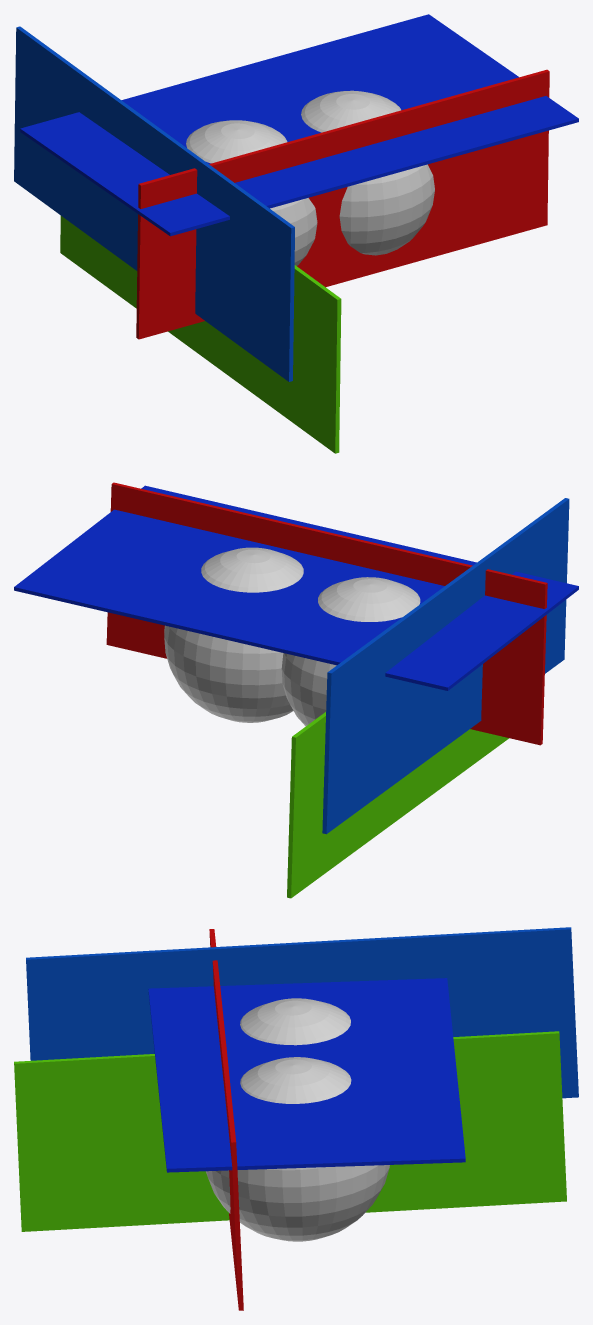
File: Ebenen als Szenenbegrenzung mit Kugel.obj
3 renders of one model, top to bottom at view 1: azimuth 30°, elevation 25°; view 2: azimuth 150°, elevation 25°; view 3: azimuth 270°, elevation 25°, orthographic. The views are drawn at different scales.
Parts seen in each view (by area): view 1: Cube.003, Cube, Cube.002, Cube.001, Kugel.001, Kugel; view 2: Cube.003, Cube.002, Cube, Cube.001, Kugel.001, Kugel; view 3: Cube.001, Cube.003, Cube.002, Kugel.001, Kugel, Cube.
Boxes of the visible parts, x1,y1,x2,y2 form: Cube.003: [20, 14, 578, 236]; Cube: [136, 69, 549, 339]; Cube.002: [14, 26, 294, 381]; Cube.001: [60, 215, 341, 453]; Kugel.001: [301, 90, 434, 255]; Kugel: [186, 120, 317, 265]; Cube.003: [14, 485, 578, 690]; Cube.002: [322, 498, 569, 834]; Cube: [106, 482, 547, 745]; Cube.001: [287, 712, 508, 898]; Kugel.001: [164, 547, 303, 722]; Kugel: [281, 577, 420, 726]; Cube.001: [14, 1031, 566, 1231]; Cube.003: [148, 978, 465, 1172]; Cube.002: [26, 927, 578, 1098]; Kugel.001: [206, 1057, 389, 1241]; Kugel: [240, 998, 350, 1045]; Cube: [209, 929, 243, 1310].
Size of the model in its own units: 1802 by 1011 by 1913.
